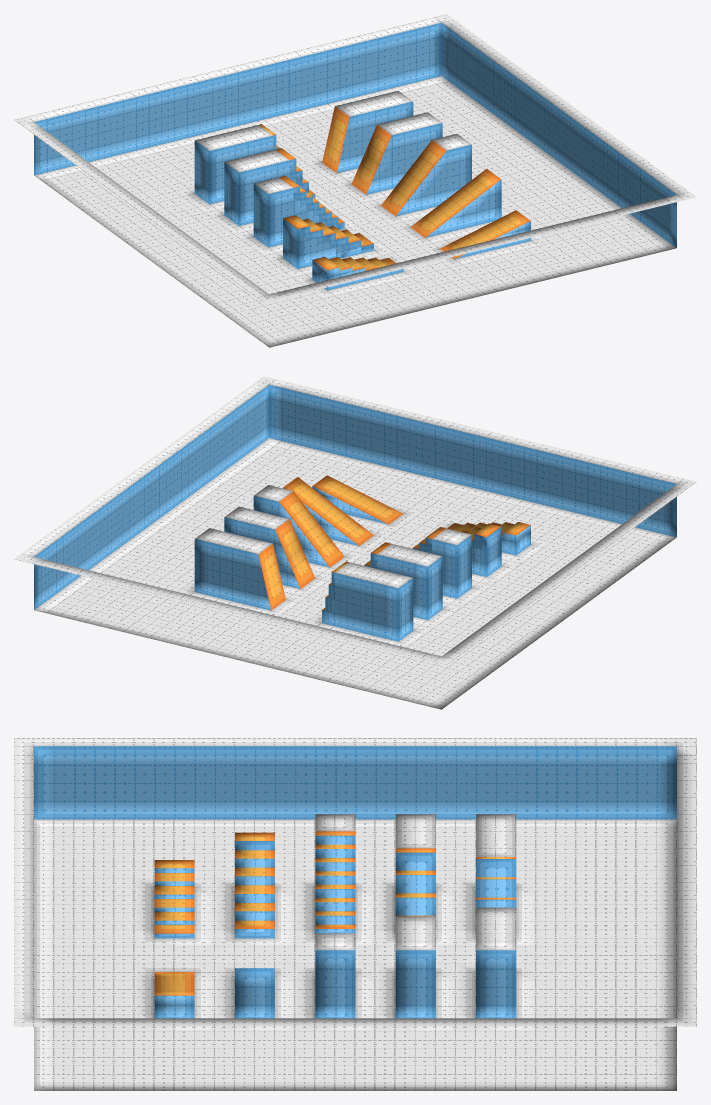
Rendered from ramps.glb.
3 views of the same model, one above another, from view 1: azimuth 30°, elevation 25°; view 2: azimuth 150°, elevation 25°; view 3: azimuth 270°, elevation 25° (orthographic). The views are drawn at different scales.
Visible parts, largest first — view 1: Environment; view 2: Environment; view 3: Environment.
Boxes of the visible parts, box(x1,y1,x2,y2) form: Environment: box(14, 14, 696, 347); Environment: box(14, 376, 696, 709); Environment: box(14, 738, 696, 1090).
Size of the model in its own units: 34 by 4 by 34.
Materials: 1 (1 with a texture image).
